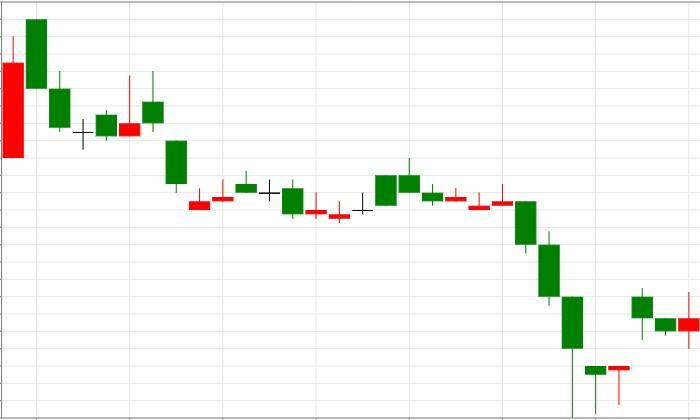hammer_rise: (398, 157, 583, 418)
